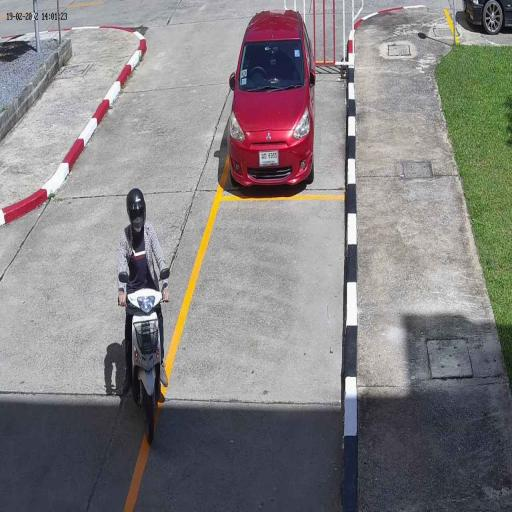car: (227, 9, 318, 194)
motorcycle: (125, 289, 168, 453)
